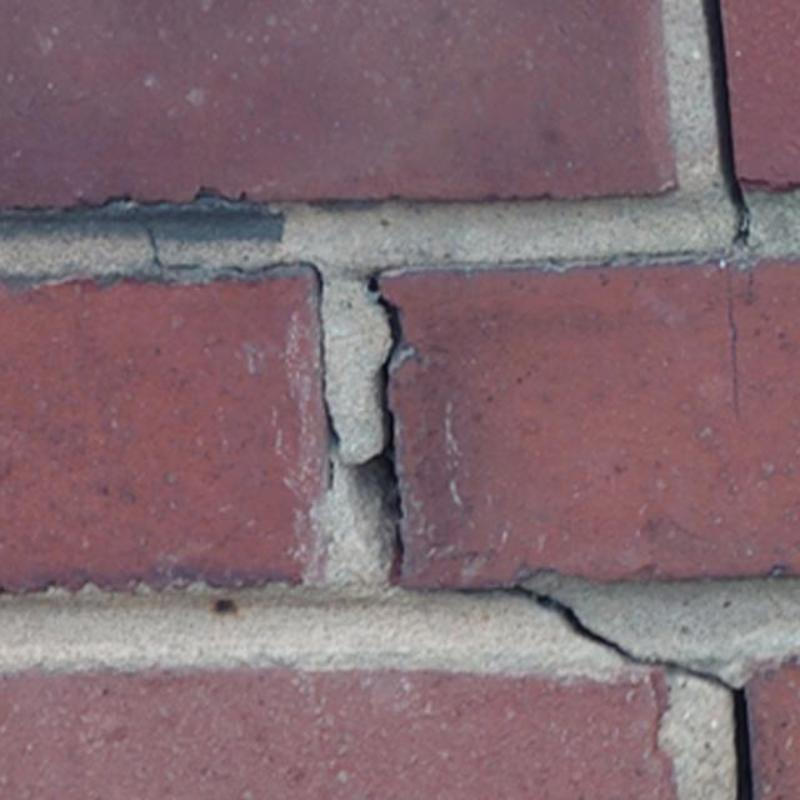pothole: (512, 588, 752, 799), (211, 260, 340, 492), (359, 265, 403, 580), (702, 0, 752, 248), (145, 225, 202, 272)
